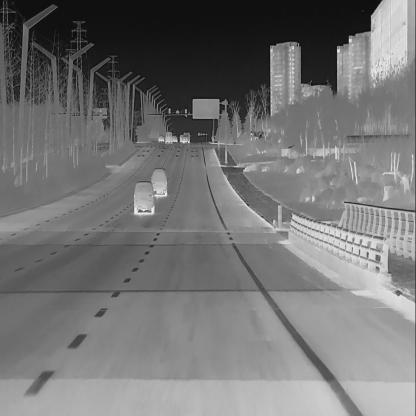car: (132, 180, 154, 213), (150, 168, 168, 196), (157, 133, 164, 143), (172, 134, 178, 144), (178, 134, 184, 142)
truck: (164, 130, 173, 144), (182, 131, 190, 143)
